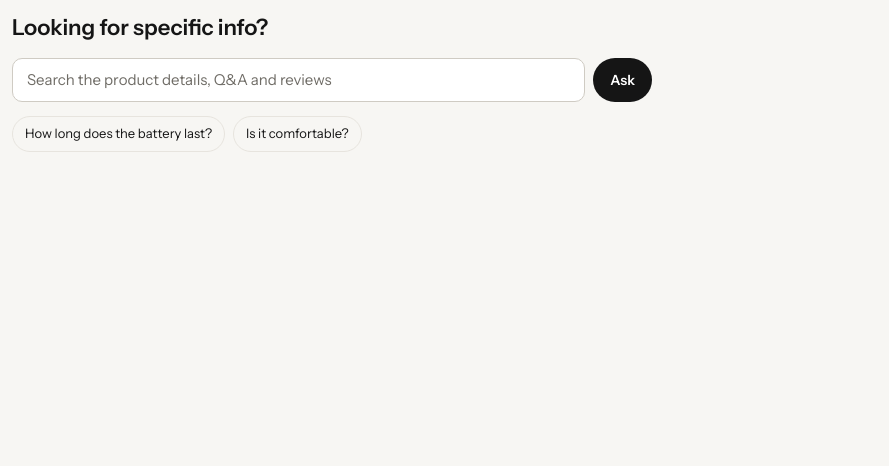
Test: asks a suggestion in one click
Click the button "Is it comfortable?": click(297, 134) [233,116,362,152]
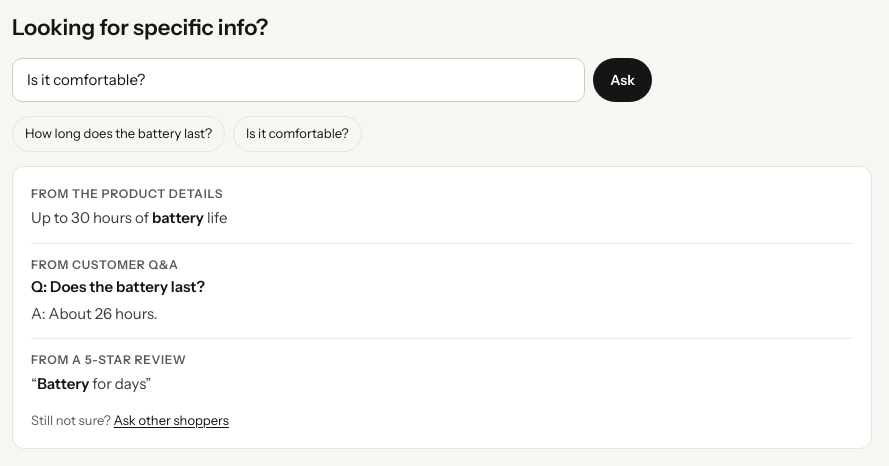
Expected: the search field named "Ask about this item" holds "Is it comfortable?", [12,58,585,102]
